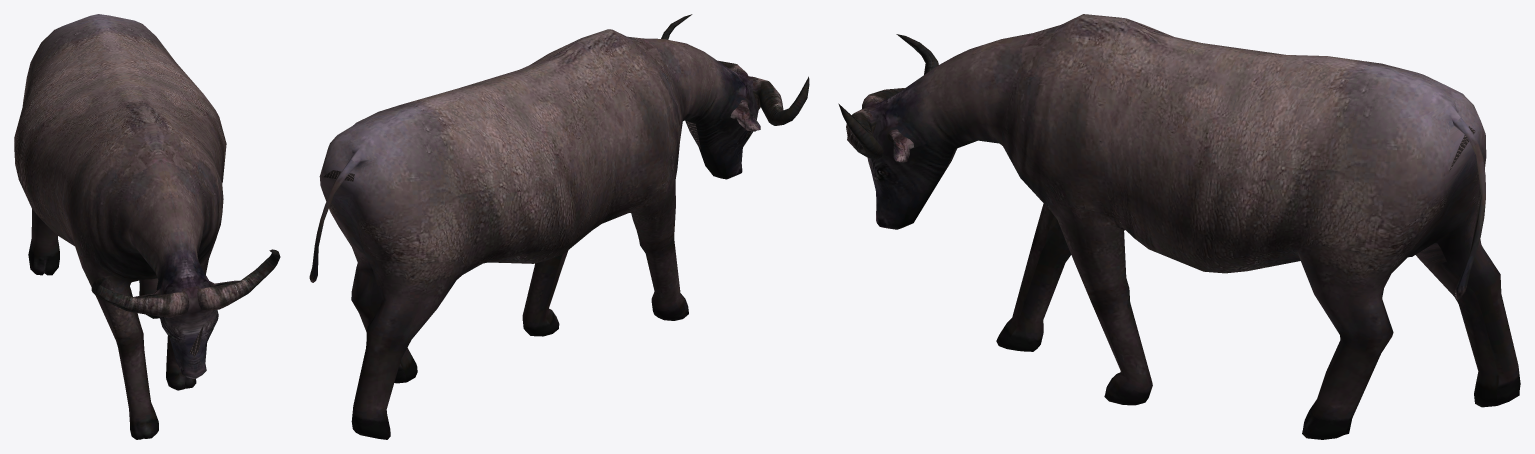
The model's file is niu1.glb.
3 views of the same model, side by side, from view 1: azimuth 30°, elevation 25°; view 2: azimuth 150°, elevation 25°; view 3: azimuth 270°, elevation 25° (orthographic). The views are drawn at different scales.
Parts seen in each view (by area): view 1: om_cn_12; view 2: om_cn_12; view 3: om_cn_12.
Boxes of the visible parts, <box> form: om_cn_12: <box>14,14,280,439</box>; om_cn_12: <box>309,14,809,439</box>; om_cn_12: <box>838,14,1520,439</box>.
Size of the model in its own units: 1.07 by 1.11 by 1.92.
1 material, 1 textured.
